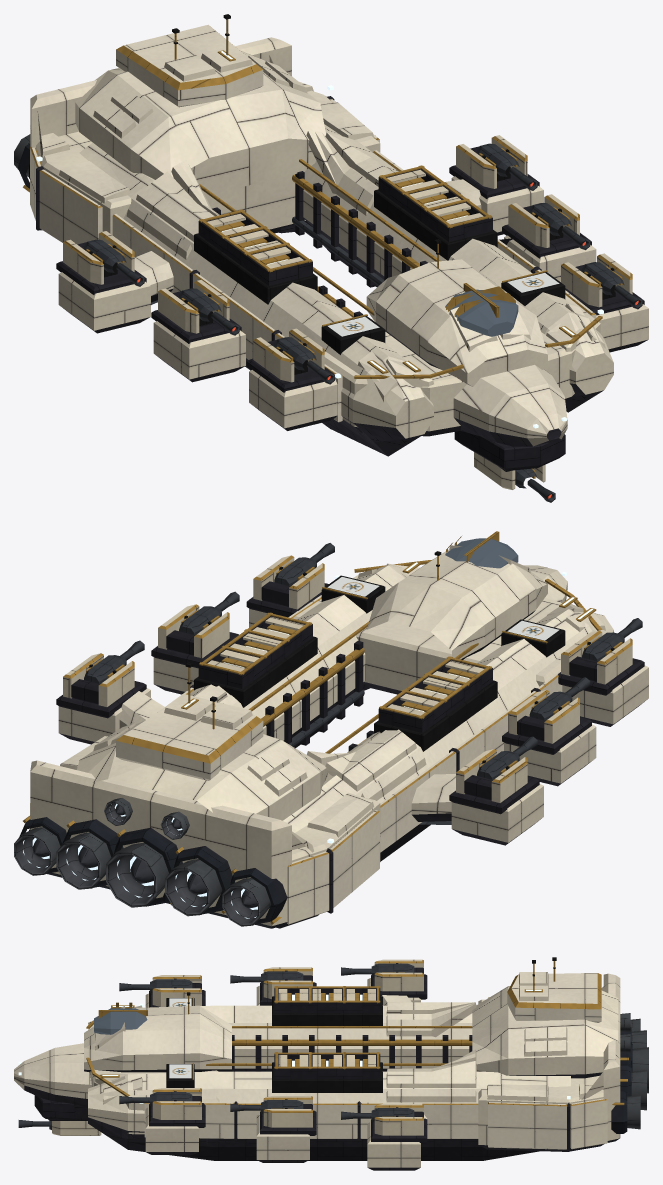
File: europa-schiff4.glb
The picture shows the model from 3 angles, top to bottom: view 1: azimuth 30°, elevation 25°; view 2: azimuth 150°, elevation 25°; view 3: azimuth 270°, elevation 25°; orthographic projection. The views are drawn at different scales.
Parts seen in each view (by area): view 1: Hull_LOD0, Laser_03, Laser_02, Laser_04, Laser_05, Laser_01, Laser_06; view 2: Hull_LOD0, Laser_04, Laser_01, Laser_03, Laser_05, Laser_02, Laser_06, Faction_Insignia_Left, Insignia_ClanSlot_Right; view 3: Hull_LOD0, Laser_04, Laser_06, Laser_02, Laser_01, Laser_05, Laser_03, Faction_Insignia_Left.
Boxes of the visible parts, x1,y1,x2,y2 form: Hull_LOD0: (14,14,648,489); Laser_03: (529,203,590,250); Laser_02: (274,337,334,384); Laser_04: (179,288,239,335); Laser_05: (477,143,537,190); Laser_01: (582,262,642,309); Laser_06: (84,239,144,286); Hull_LOD0: (14,531,648,928); Laser_04: (529,677,590,720); Laser_01: (274,543,334,586); Laser_03: (179,591,239,635); Laser_05: (84,640,144,683); Laser_02: (582,618,642,661); Laser_06: (477,736,537,779); Faction_Insignia_Left: (327,577,379,596); Insignia_ClanSlot_Right: (507,620,559,640); Hull_LOD0: (14,957,648,1170); Laser_04: (230,970,303,985); Laser_06: (341,963,414,977); Laser_02: (119,978,192,993); Laser_01: (119,1091,192,1106); Laser_05: (341,1107,414,1122); Laser_03: (230,1099,303,1114); Faction_Insignia_Left: (169,1064,191,1078).
Bounding box in the file's own units: 38 × 18.86 × 61.8.
6 materials, 4 textured.
